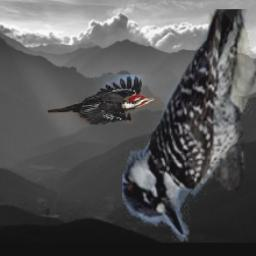Woodpecker: (122, 9, 256, 242), (47, 75, 159, 125)
